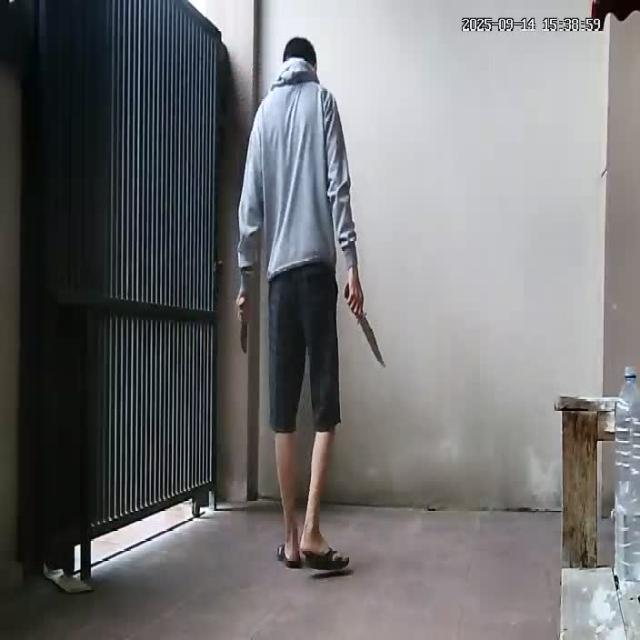senjata_tajam: (360, 315, 388, 370), (239, 322, 250, 356)
